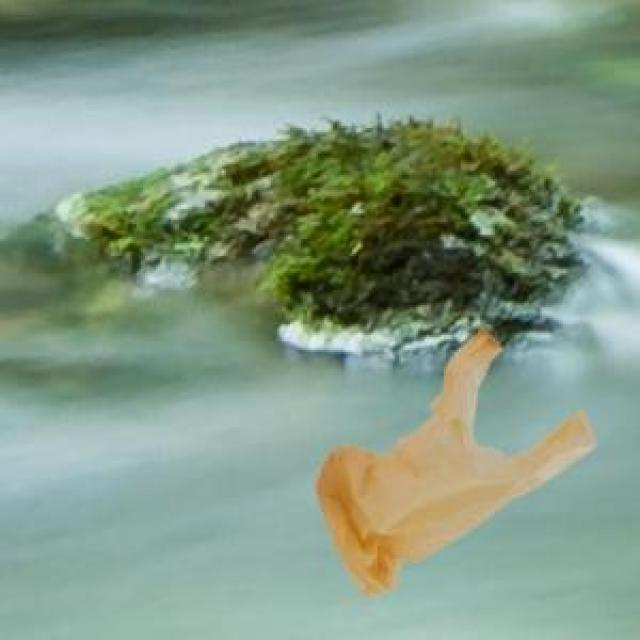plastic: (272, 328, 634, 618)
